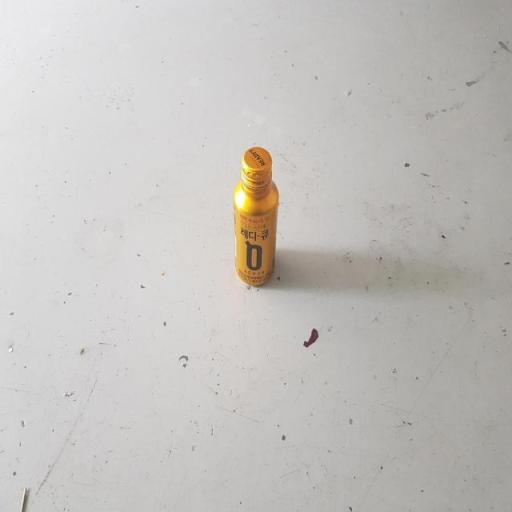metal: (222, 135, 289, 299)
